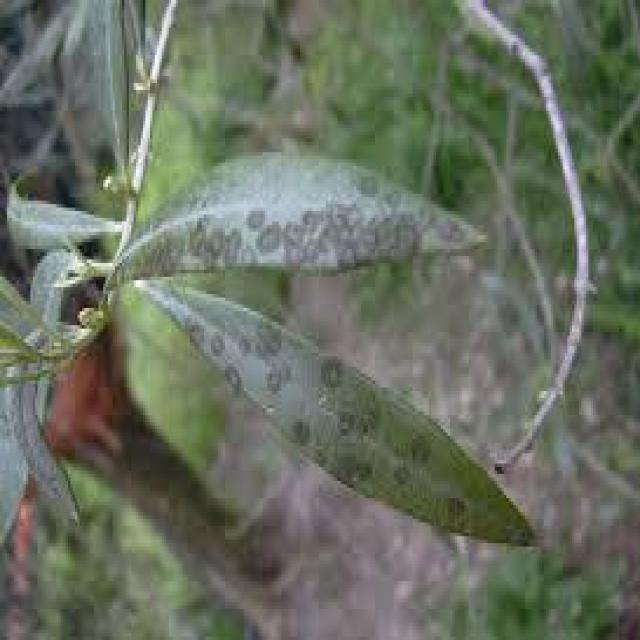OlivePeacockSpot: (148, 280, 534, 536), (136, 152, 474, 274)
